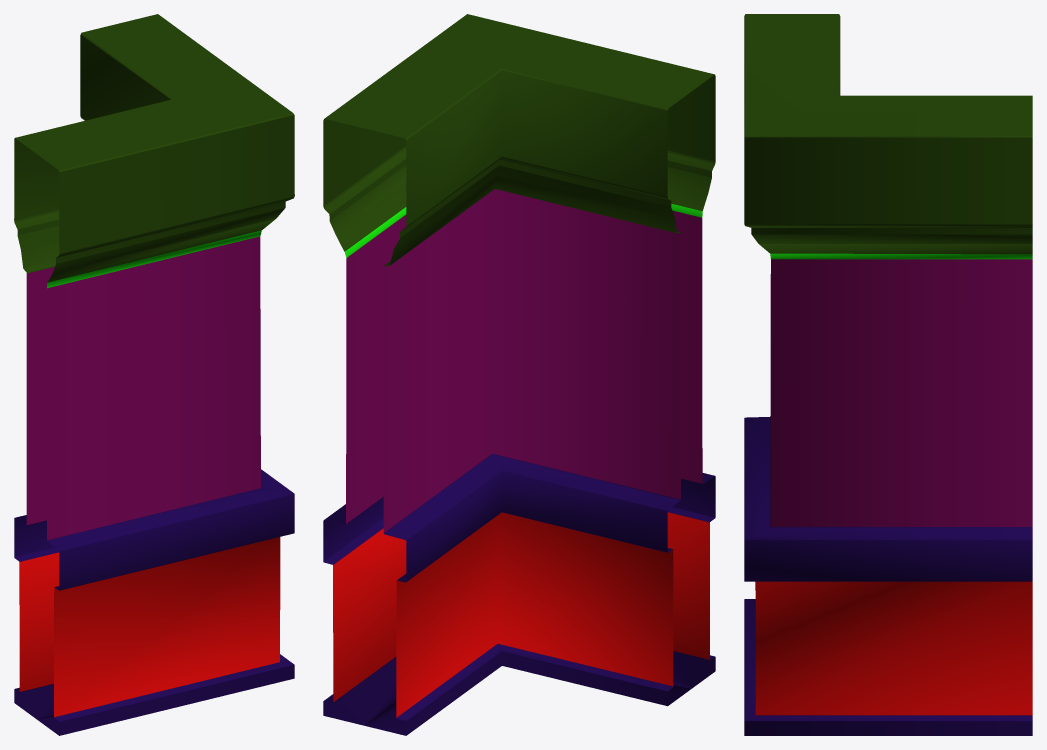
File: LCornerWall.fbx
3 views of the same model, side by side, from view 1: azimuth 30°, elevation 25°; view 2: azimuth 150°, elevation 25°; view 3: azimuth 270°, elevation 25° (orthographic). The views are drawn at different scales.
Visible parts, largest first — view 1: Full Inner Corner; view 2: Full Inner Corner; view 3: Full Inner Corner.
Part boxes in pixels (x1,y1,x2,y2): Full Inner Corner: (14,14,294,735); Full Inner Corner: (323,14,715,735); Full Inner Corner: (744,14,1032,735).
Size of the model in its own units: 180 by 413 by 180.
